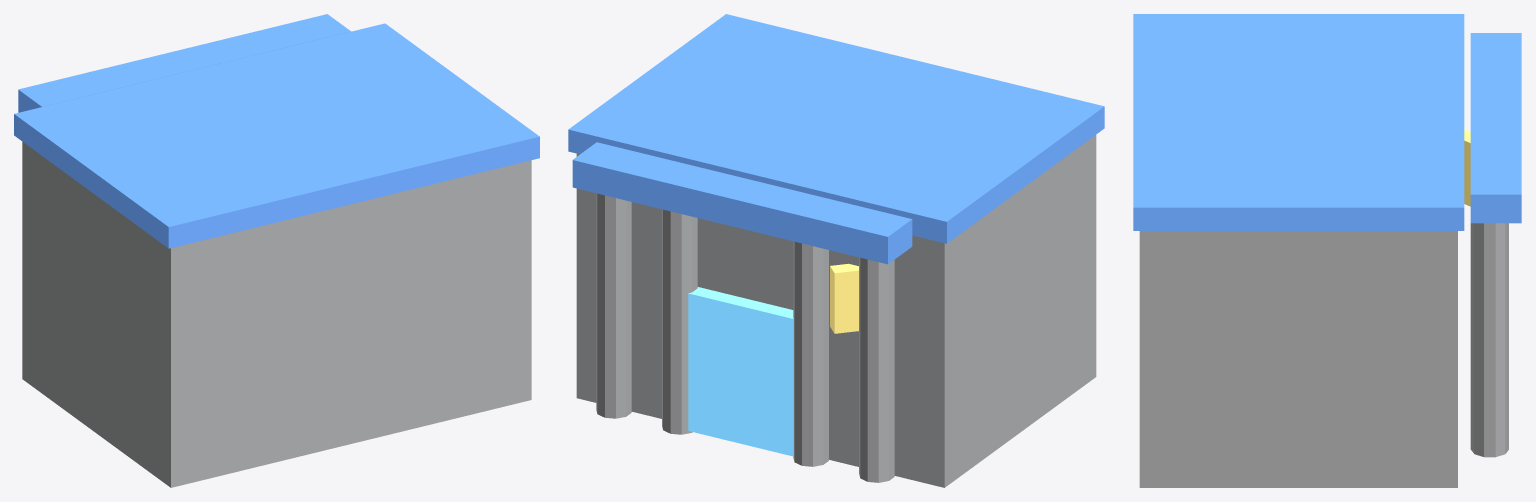
File: hero_hq.glb
The picture shows the model from 3 angles, left to right: view 1: azimuth 30°, elevation 25°; view 2: azimuth 150°, elevation 25°; view 3: azimuth 270°, elevation 25°; orthographic projection. The views are drawn at different scales.
Parts seen in each view (by area): view 1: hero_hq; view 2: hero_hq; view 3: hero_hq.
Boxes of the visible parts, bbox=[...] form: hero_hq: bbox=[14, 14, 539, 487]; hero_hq: bbox=[568, 14, 1104, 487]; hero_hq: bbox=[1133, 14, 1521, 487].
Size of the model in its own units: 1.44 by 0.98 by 1.22.
